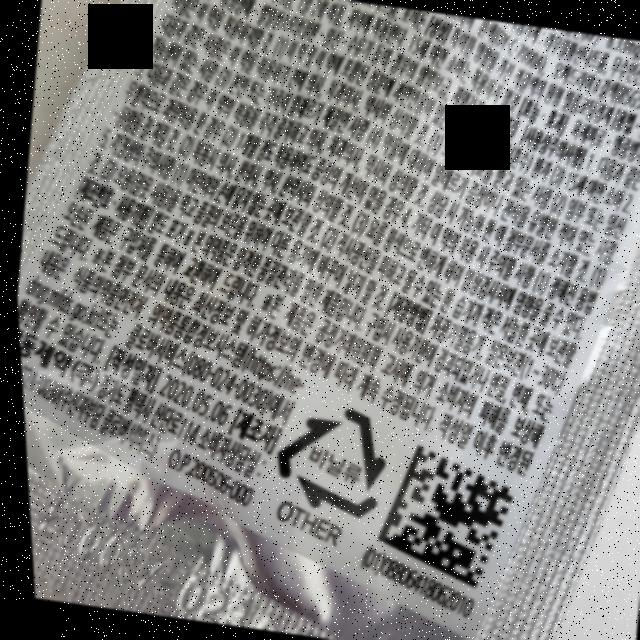Vinyl: (259, 398, 388, 524)
